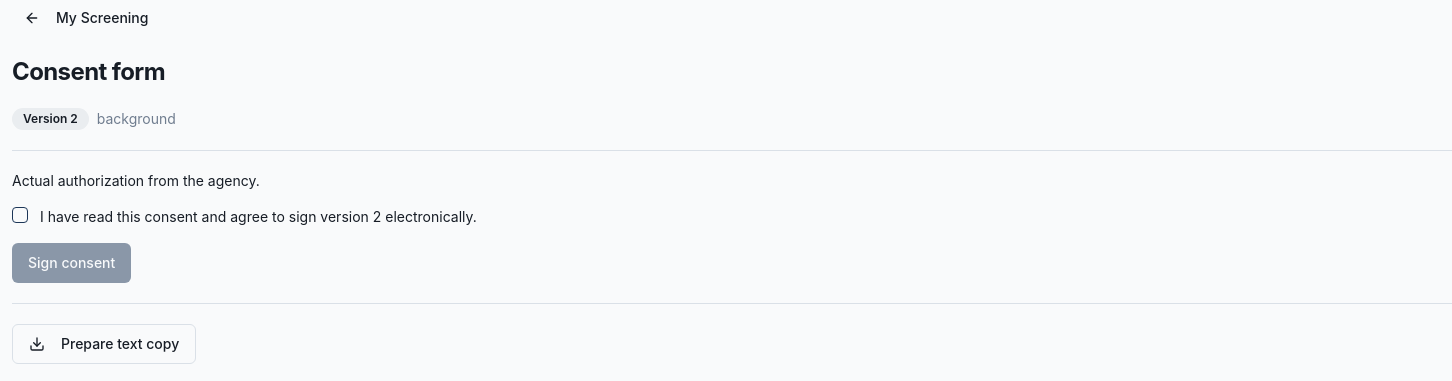
Test case: worker consent actions › reads through the audited API and signs the exact reviewed version
Expected: the text "Actual authorization from the agency." is shown, [12,172,260,189]
Expected: the button "Sign consent" is disabled, [12,243,131,283]
Click the checkbox: [20, 215] box [12,207,28,223]
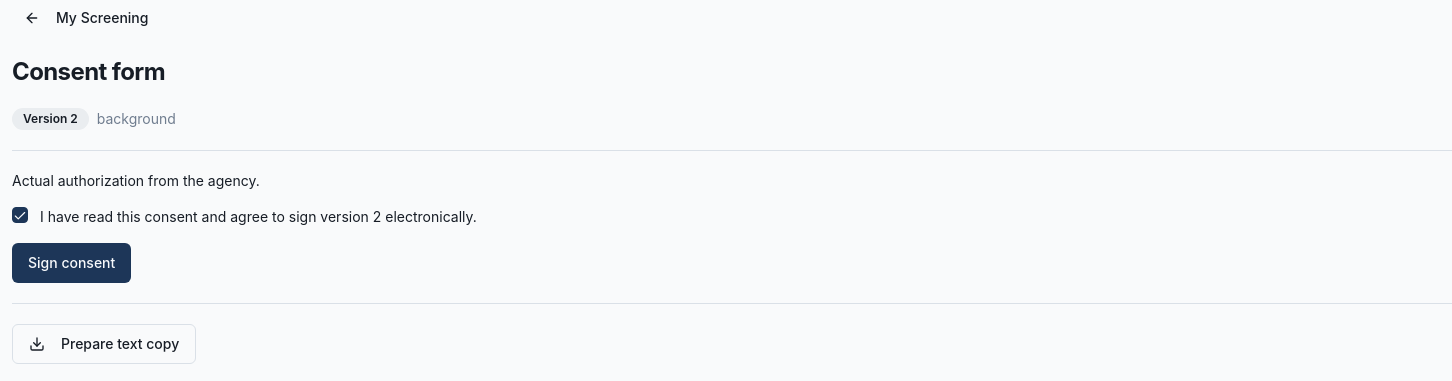
Click the button "Sign consent": [72, 263] box [12,243,131,283]
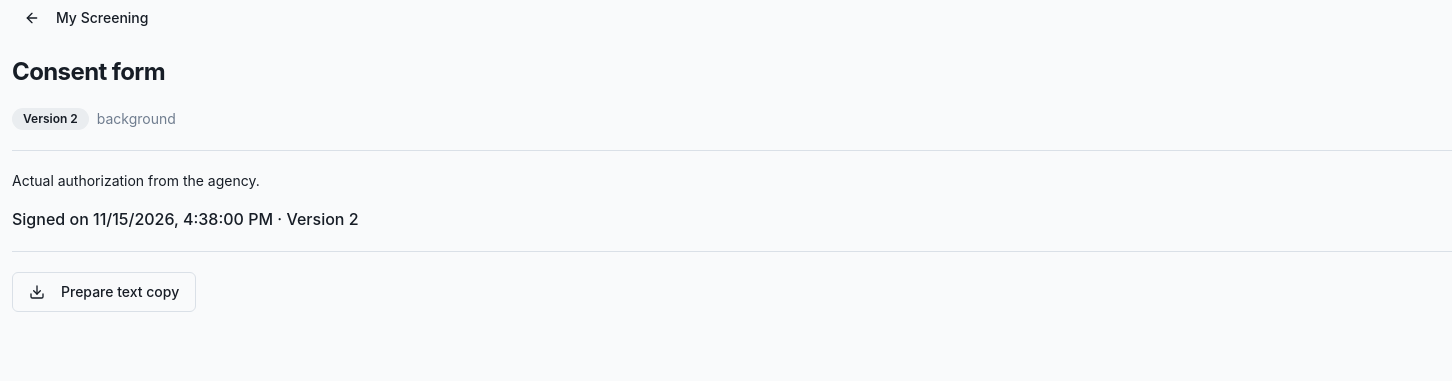
Expected: the message "Signed on 11/15/2026, 4:38:00 PM · Version 2" is shown, [12,209,359,229]
Expected: the button "Sign consent" is gone
